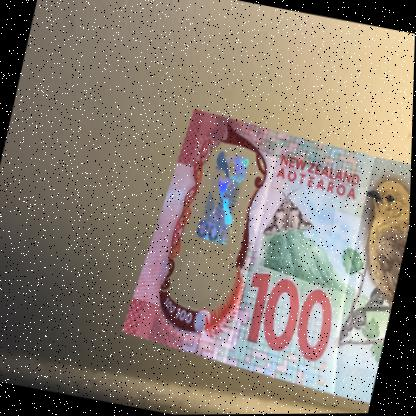100B: (184, 145, 255, 294)
